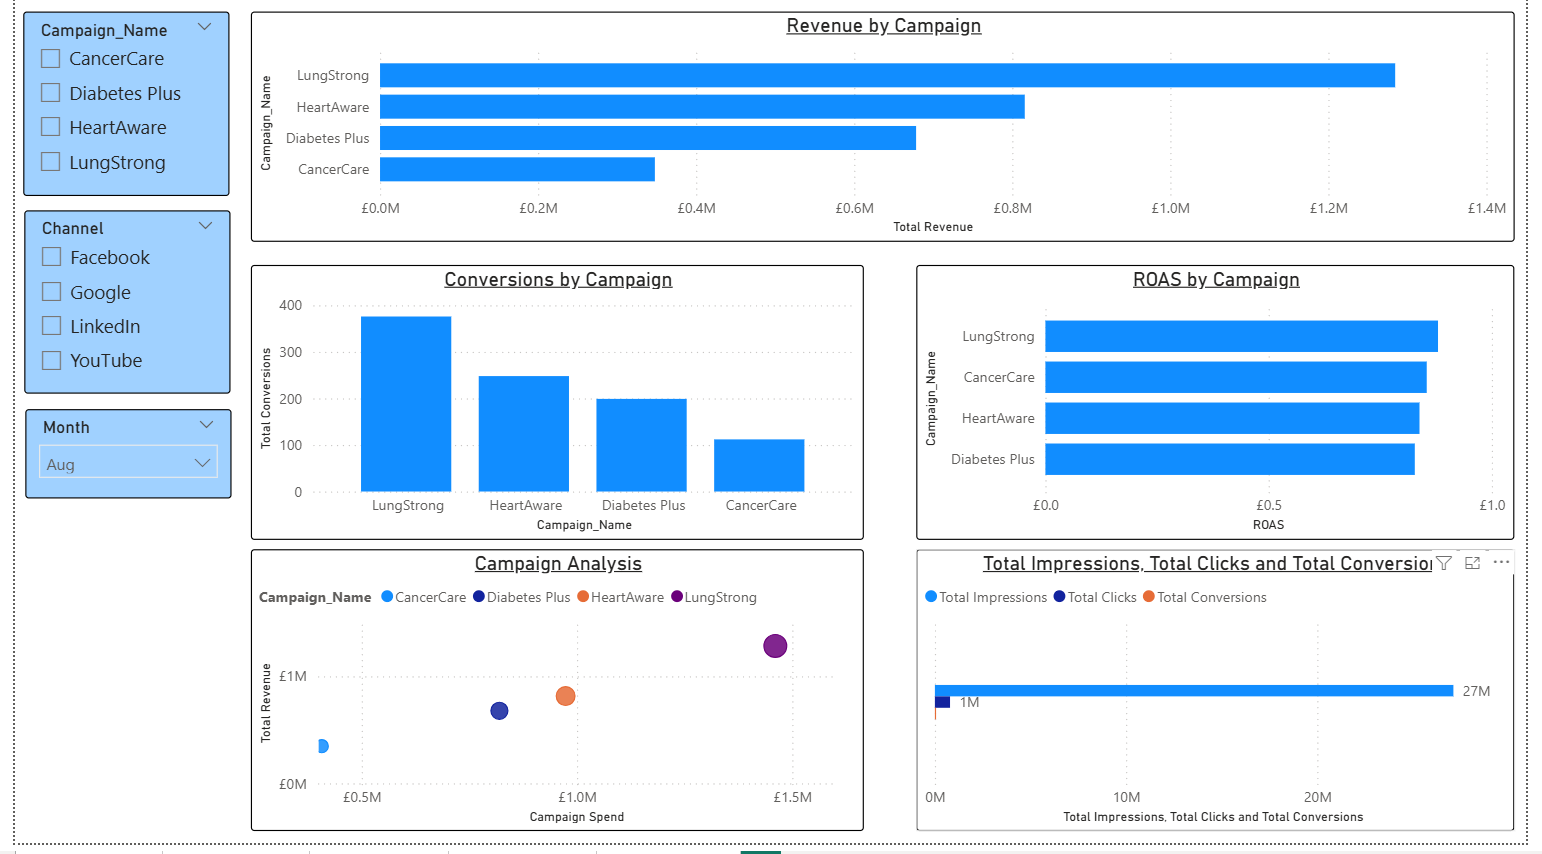

Layout of this report page (visuals, bound fields, positions):
{"tool":"powerbi","page":{"name":"Campaign Analysis","canvas":[1280,720],"ordinal":1},"visuals":[{"type":"slicer","fields":{"Values":["DateTable.Month"]},"box":[7.9,532.4,174.6,76.8],"z":0},{"type":"slicer","fields":{"Values":["clean_campaign.Channel"]},"box":[8.1,184.5,174.6,154.9],"z":1000},{"type":"slicer","fields":{"Values":["clean_campaign.Campaign_Name"]},"box":[7.2,16.1,174.6,155.8],"z":2000},{"type":"clusteredBarChart","title":"Revenue by Campaign","fields":{"Y":["Measure.Total Revenue"],"Category":["clean_campaign.Campaign_Name"]},"box":[199.7,16.1,1071.2,195.2],"z":3000},{"type":"clusteredColumnChart","title":"Conversions by Campaign","fields":{"Category":["clean_campaign.Campaign_Name"],"Y":["Measure.Total Conversions"]},"box":[199.7,230.2,519.5,232.9],"z":4000},{"type":"clusteredBarChart","title":"ROAS by Campaign","fields":{"Category":["clean_campaign.Campaign_Name"],"Y":["Measure.ROAS"]},"box":[764,230.2,506.9,232.9],"z":5000},{"type":"scatterChart","title":"Campaign Analysis","fields":{"X":["Measure.Campaign Spend"],"Y":["Measure.Total Revenue"],"Size":["Measure.Total Conversions"],"Series":["clean_campaign.Campaign_Name"]},"box":[199.7,471.1,519.5,239.1],"z":6000},{"type":"clusteredBarChart","fields":{"Y":["Measure.Total Impressions","Measure.Total Clicks","Measure.Total Conversions"]},"box":[764,471,507,239],"z":7000},{"type":"slicer","fields":{"Values":["clean_audience(in).Condition"]},"box":[7.9,352.6,174.6,168.4],"z":7001}]}

Visuals, with their boxes in screenshot pixels (x1, y1, x2, y2), scaled from the page's 1280x720 canvas onto the 1542x854 screenshot:
slicer - DateTable.Month: BBox(10, 631, 220, 723)
slicer - clean_campaign.Channel: BBox(10, 219, 220, 403)
slicer - clean_campaign.Campaign_Name: BBox(9, 19, 219, 204)
"Revenue by Campaign" clusteredBarChart: BBox(241, 19, 1531, 251)
"Conversions by Campaign" clusteredColumnChart: BBox(241, 273, 866, 549)
"ROAS by Campaign" clusteredBarChart: BBox(920, 273, 1531, 549)
"Campaign Analysis" scatterChart: BBox(241, 559, 866, 842)
clusteredBarChart - Measure.Total Impressions x Measure.Total Clicks: BBox(920, 559, 1531, 842)
slicer - clean_audience(in).Condition: BBox(10, 418, 220, 618)
